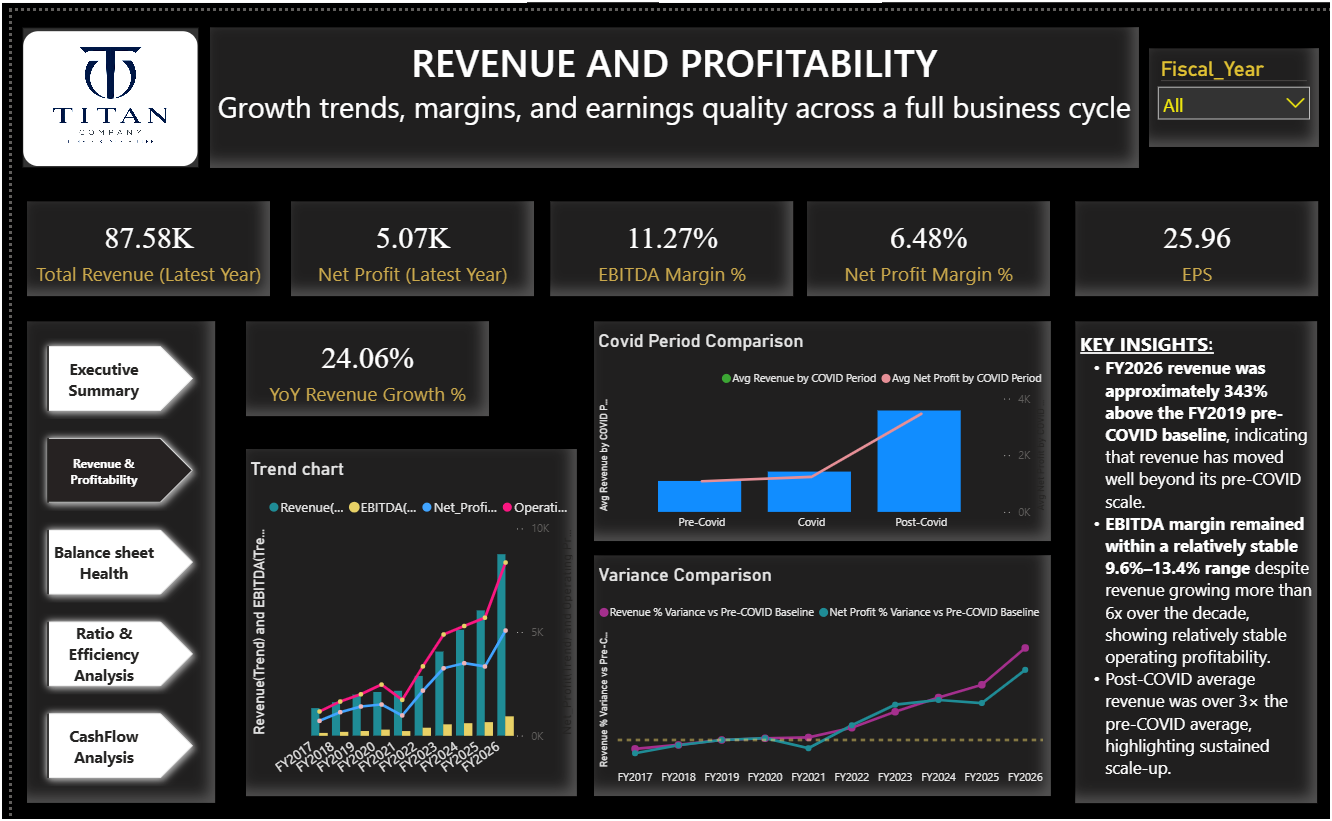

This screenshot's page, from the dashboard's own definition file:
{"tool":"powerbi","page":{"name":"Revenue & Profitability","canvas":[1470,900],"ordinal":1},"visuals":[{"type":"textbox","box":[220,18,1032,156],"z":0},{"type":"card","fields":{"Values":["_Measures-1.Total Revenue (Latest Year)"]},"box":[16.3,211.7,270,105],"z":1000},{"type":"textbox","box":[16.3,344.2,209.3,535],"z":1000,"group":"g1"},{"type":"card","fields":{"Values":["_Measures-1.YoY Revenue Growth %"]},"box":[260.5,344.2,270,105],"z":2000},{"type":"card","fields":{"Values":["_Measures-2.EPS"]},"box":[1181.6,211.7,270,105],"z":3000},{"type":"card","fields":{"Values":["_Measures-1.Net Profit (Latest Year)"]},"box":[309.4,211.7,270,105],"z":4000},{"type":"card","fields":{"Values":["_Measures-1.EBITDA Margin %"]},"box":[597.8,211.7,270,105],"z":5000},{"type":"card","fields":{"Values":["_Measures-2.Net Profit Margin %"]},"box":[883.9,211.7,270,105],"z":6000},{"type":"lineClusteredColumnComboChart","title":"Trend chart","fields":{"Category":["Dim_Fiscal_year.Fiscal_Year"],"Y":["_Measures-2.Revenue(Trend)","_Measures-2.EBITDA(Trend)"],"Y2":["_Measures-2.Net_Profit(Trend)","_Measures-2.Operating Profit(Trend)"]},"box":[260.5,486.1,367.5,386.1],"z":7000},{"type":"lineClusteredColumnComboChart","title":"Covid Period Comparison","fields":{"Category":["Dim_Fiscal_year.Covid_Period"],"Y":["_Measures-2.Avg Revenue by COVID Period"],"Y2":["_Measures-2.Avg Net Profit by COVID Period"]},"box":[646.6,344.2,507.1,244.2],"z":8000},{"type":"lineChart","title":"Variance Comparison","fields":{"Category":["Dim_Fiscal_year.Fiscal_Year"],"Y":["_Measures-2.Revenue % Variance vs Pre-COVID Baseline","_Measures-2.Net Profit % Variance vs Pre-COVID Baseline"]},"box":[646.6,604.7,507.1,267.5],"z":9000},{"type":"slicer","fields":{"Values":["Dim_Fiscal_year.Fiscal_Year"]},"box":[1263,41.9,188.4,109.3],"z":10000},{"type":"textbox","box":[1182,345.3,268.5,535.3],"z":11000},{"type":"pageNavigator","box":[30,362.5,180,500],"z":11003,"group":"g1"},{"type":"group","id":"g1","title":"Group 1","box":[16.3,344.2,209.3,535],"z":12000},{"type":"image","box":[12,18,196,156],"z":12001}]}

Visuals, with their boxes in screenshot pixels (x1, y1, x2, y2), scaled from the page's 1470x900 canvas onto the 1332x821 screenshot:
textbox: (199, 16, 1134, 159)
card - _Measures-1.Total Revenue (Latest Year): (15, 193, 259, 289)
textbox: (15, 314, 204, 802)
card - _Measures-1.YoY Revenue Growth %: (236, 314, 481, 410)
card - _Measures-2.EPS: (1071, 193, 1315, 289)
card - _Measures-1.Net Profit (Latest Year): (280, 193, 525, 289)
card - _Measures-1.EBITDA Margin %: (542, 193, 786, 289)
card - _Measures-2.Net Profit Margin %: (801, 193, 1046, 289)
"Trend chart" lineClusteredColumnComboChart: (236, 443, 569, 796)
"Covid Period Comparison" lineClusteredColumnComboChart: (586, 314, 1045, 537)
"Variance Comparison" lineChart: (586, 552, 1045, 796)
slicer - Dim_Fiscal_year.Fiscal_Year: (1144, 38, 1315, 138)
textbox: (1071, 315, 1314, 803)
pageNavigator: (27, 331, 190, 787)
"Group 1" group: (15, 314, 204, 802)
image: (11, 16, 188, 159)
